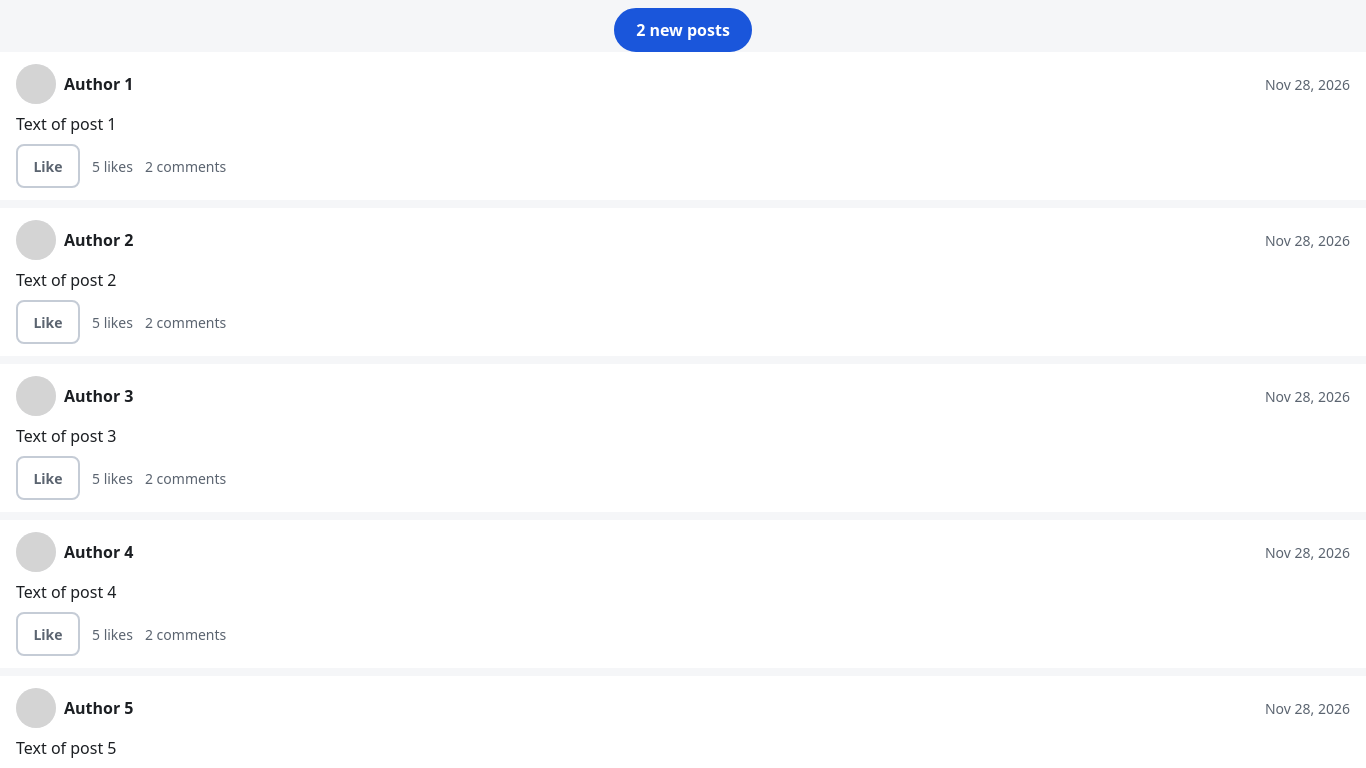
Test: Feed: new posts › puts the new posts at the top when the user presses the pill
Click the button "2 new posts". click: [683, 30]
box: 614,8 -> 752,52
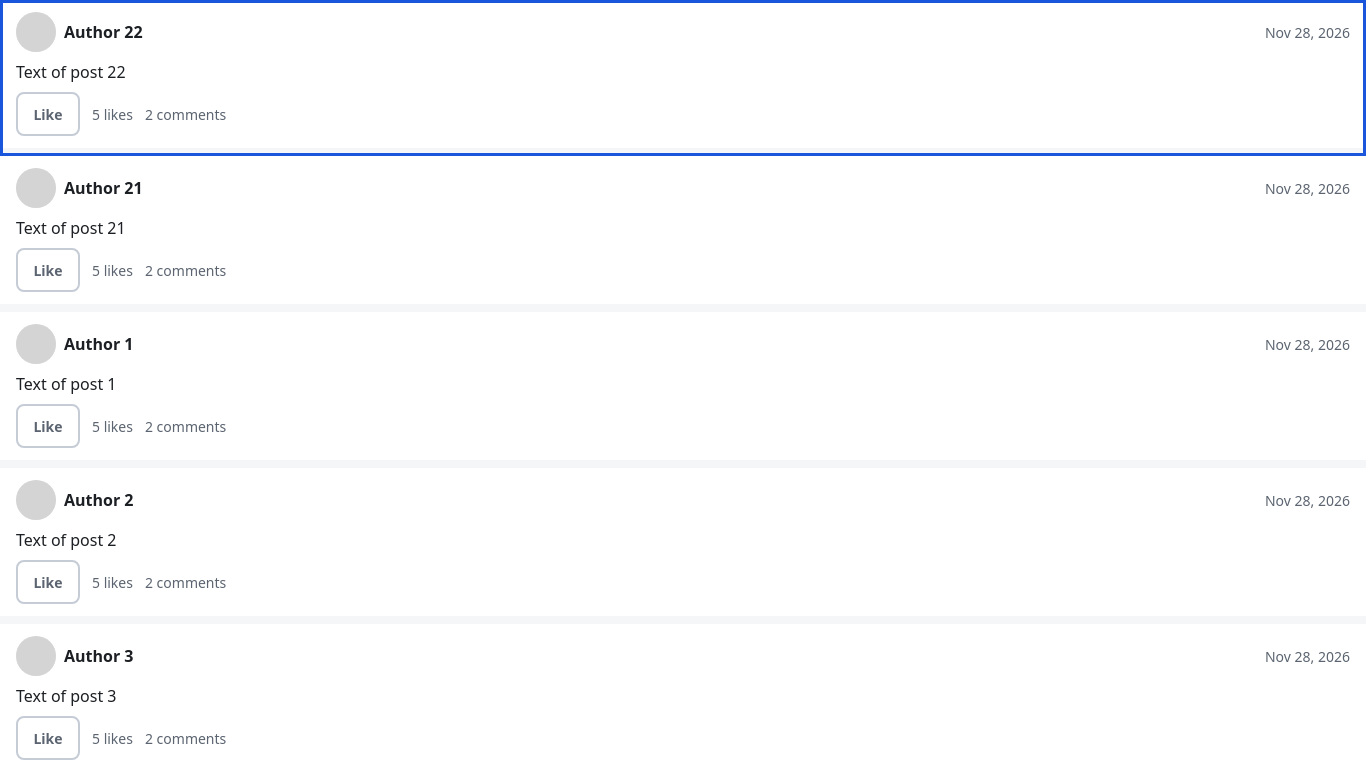
Expected: the button "new post" is gone
